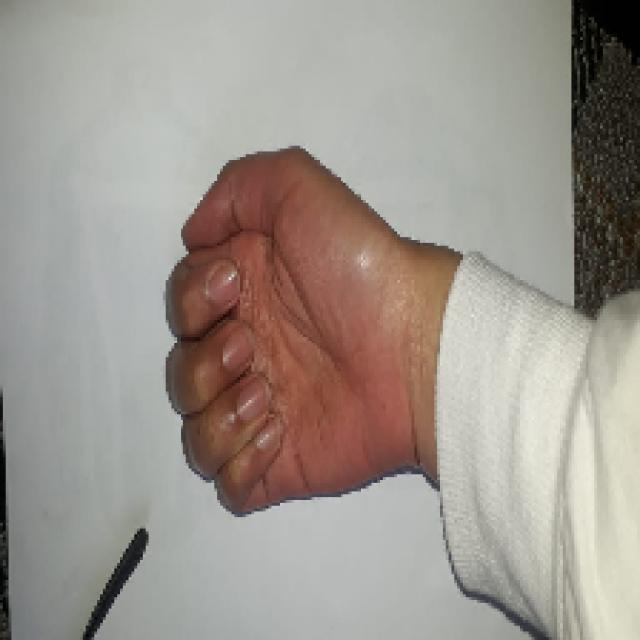Nail: (236, 379, 268, 421), (222, 328, 253, 370), (207, 262, 239, 302), (255, 428, 281, 450)
